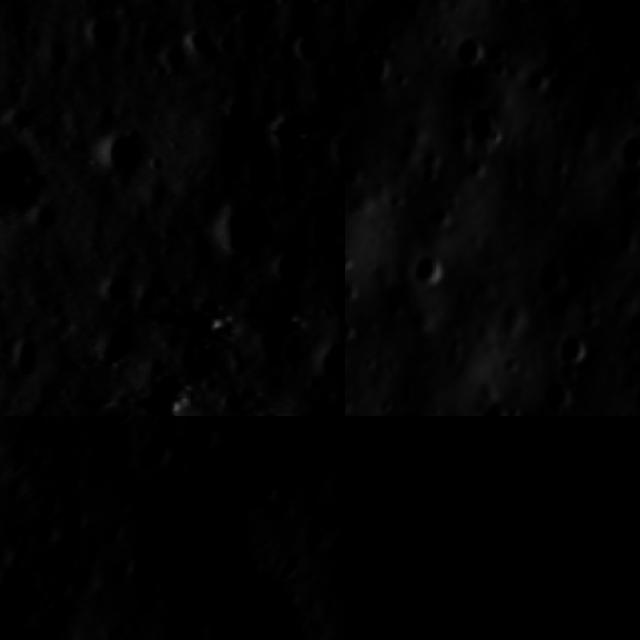crater: (138, 462, 272, 613), (186, 563, 332, 640), (527, 481, 628, 580), (541, 0, 640, 92), (429, 513, 516, 606), (0, 123, 69, 231), (204, 200, 286, 278), (86, 121, 164, 194), (345, 136, 383, 285), (250, 105, 328, 176), (76, 317, 150, 381), (259, 241, 321, 305), (137, 36, 199, 96), (388, 558, 448, 620), (72, 9, 129, 68), (1, 332, 52, 392), (396, 245, 456, 296), (306, 330, 345, 401), (214, 86, 267, 135), (354, 36, 402, 90), (172, 20, 223, 69), (86, 268, 137, 316), (447, 26, 495, 77), (594, 482, 640, 533), (552, 324, 598, 374), (355, 585, 401, 634), (314, 120, 345, 187), (348, 454, 391, 502), (534, 257, 576, 306), (462, 98, 503, 148), (535, 374, 581, 416), (290, 31, 331, 74), (563, 416, 620, 444), (451, 393, 517, 416), (612, 127, 640, 176), (622, 363, 640, 416), (300, 0, 345, 20), (345, 318, 364, 349)
